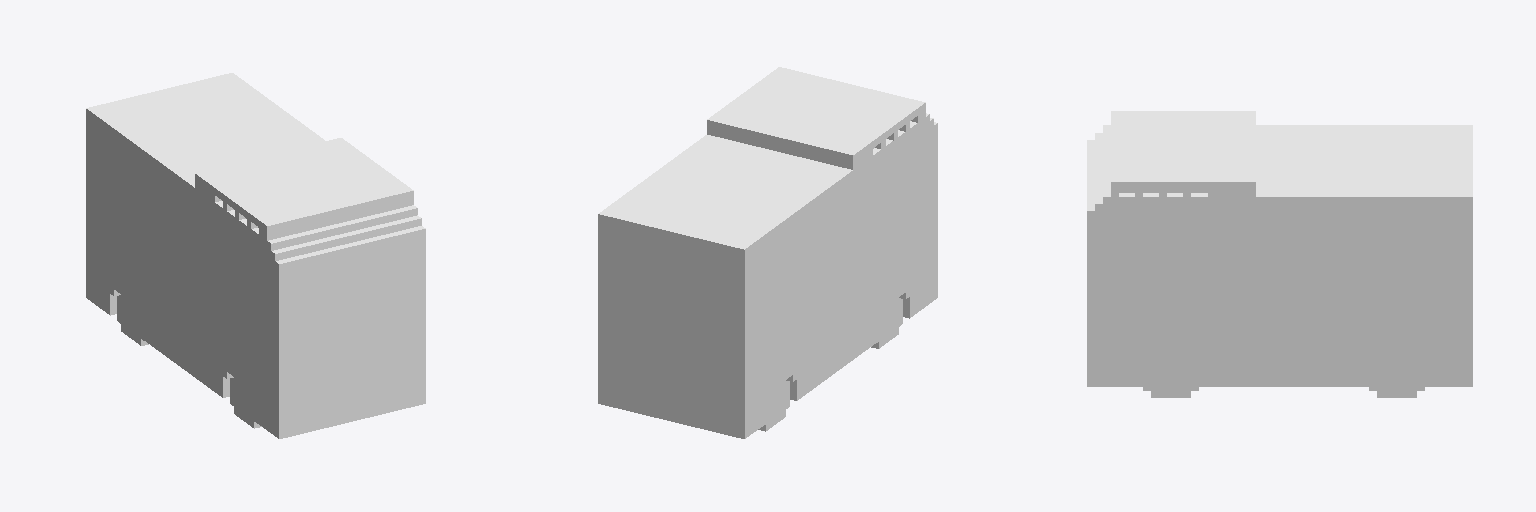
Rendered from bus.obj.
3 renders of one model, left to right at view 1: azimuth 30°, elevation 25°; view 2: azimuth 150°, elevation 25°; view 3: azimuth 270°, elevation 25°, orthographic.
Size of the model in its own units: 21 by 30 by 48.